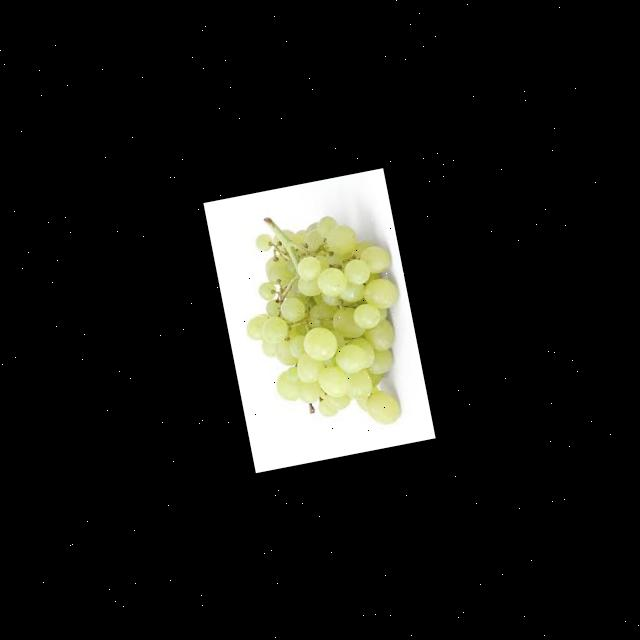grape: (226, 194, 424, 446)
